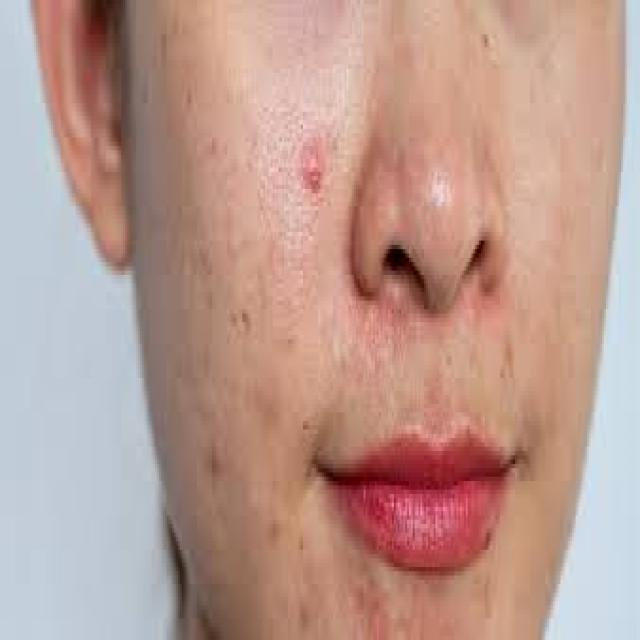Acne: (278, 124, 330, 221)
